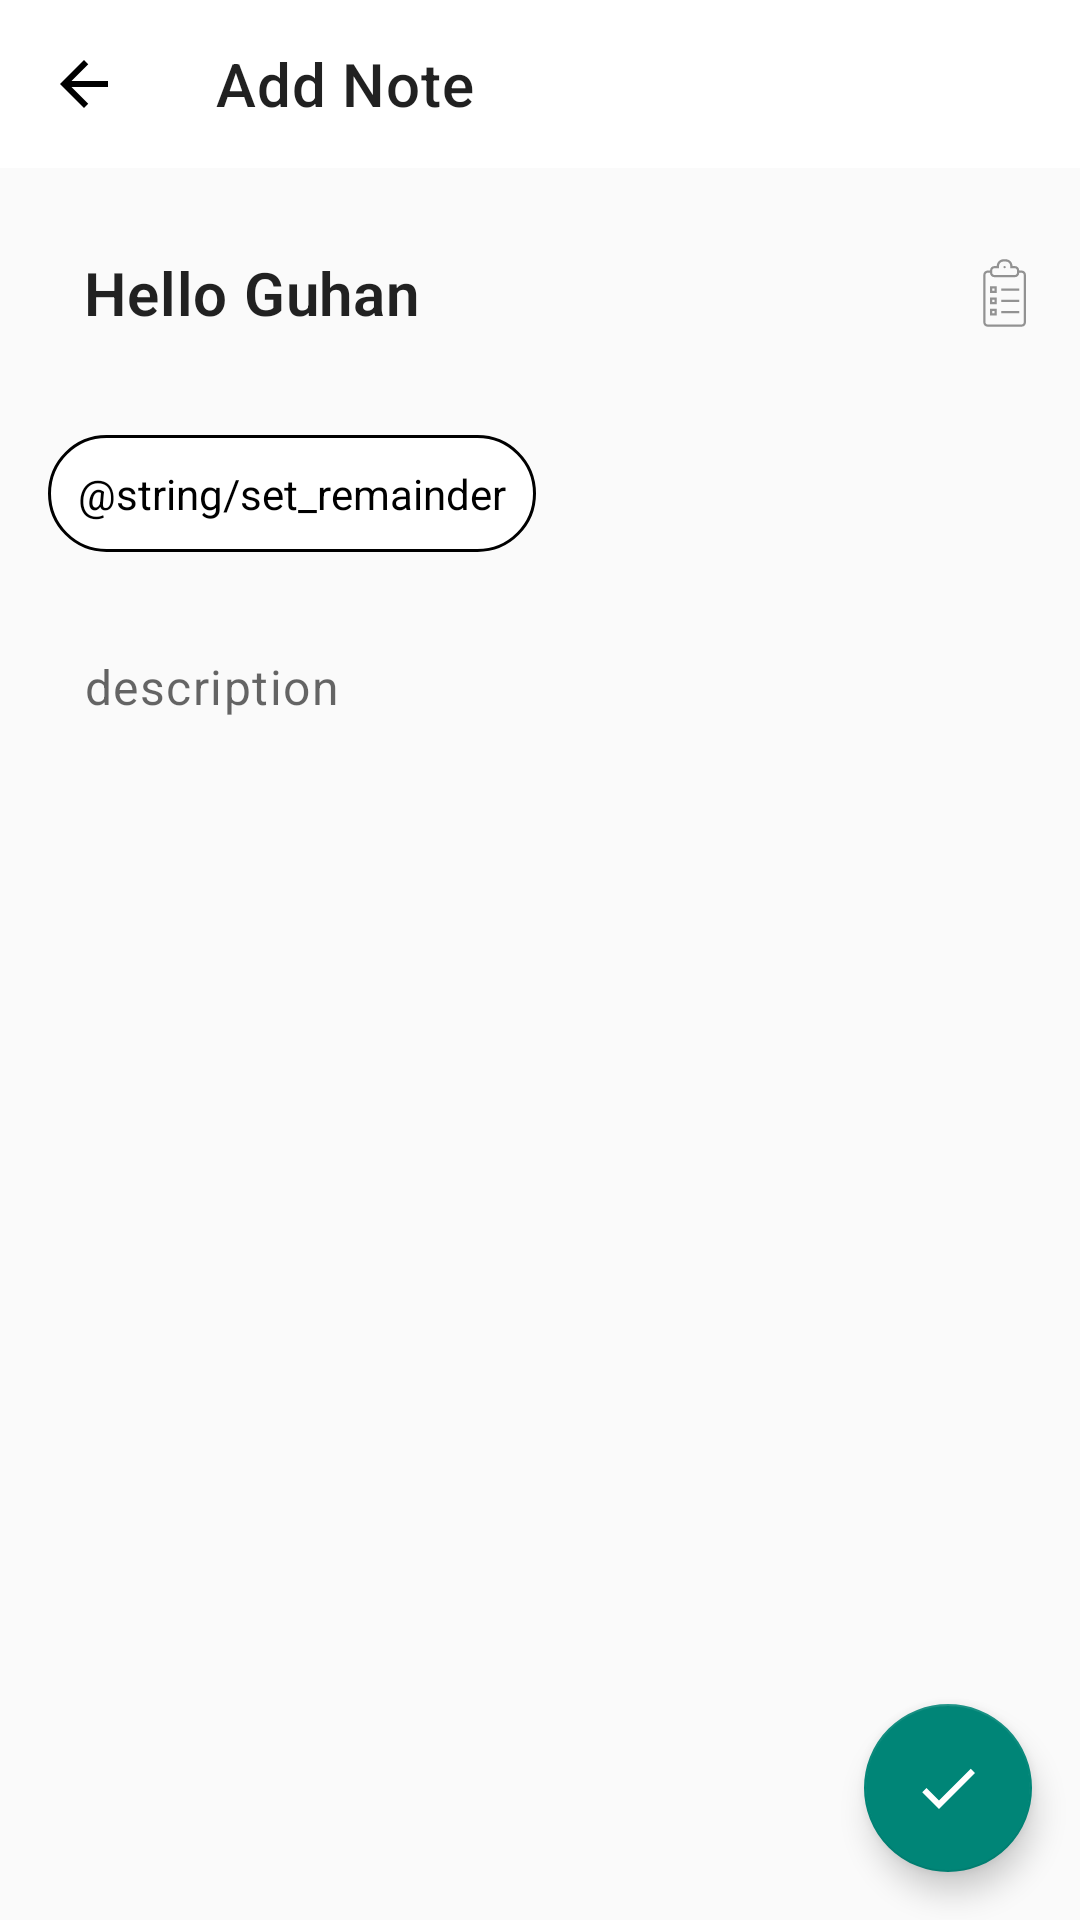

Point at icon controls on the screen. Image size 1080w x 1920h, points as [x,y].
check: [948,1788]
